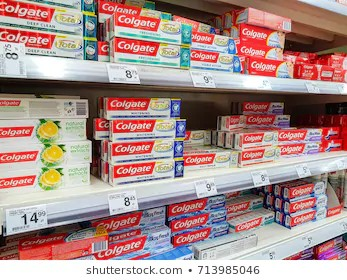colagate-medium: (1, 141, 91, 169), (1, 166, 91, 194), (113, 37, 186, 68), (1, 121, 89, 145), (1, 93, 89, 117), (104, 95, 181, 116), (108, 140, 182, 161), (108, 160, 184, 180), (111, 119, 185, 139), (188, 47, 244, 69), (185, 151, 238, 171), (247, 57, 294, 75), (236, 148, 279, 161), (238, 132, 281, 145)
